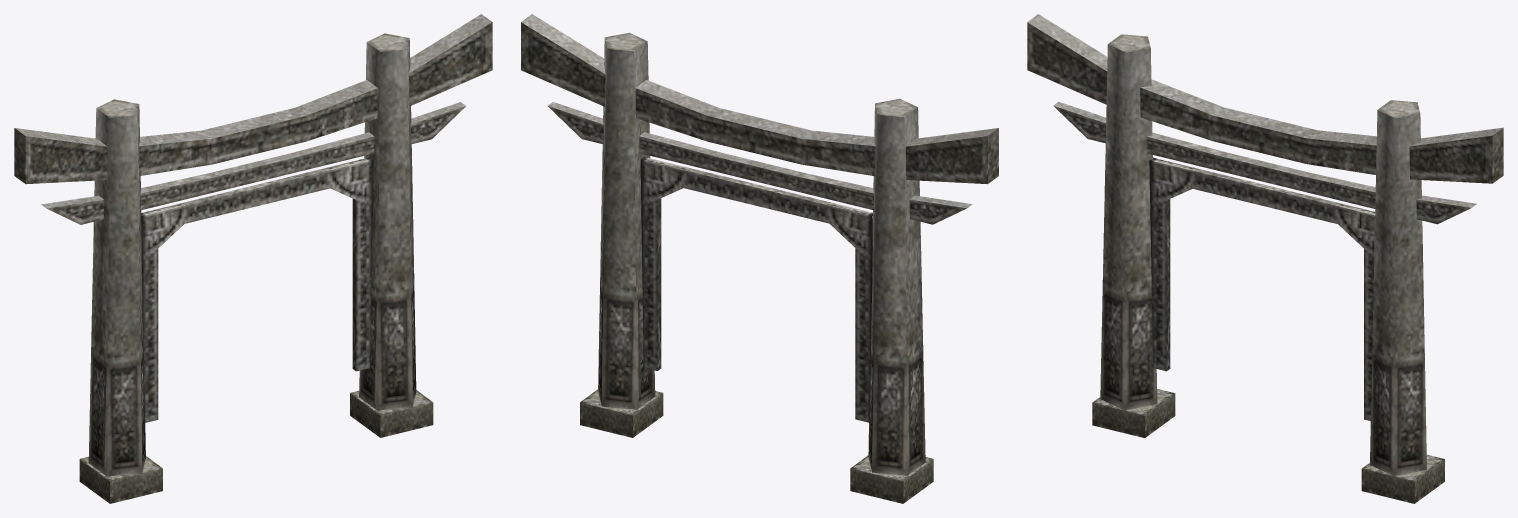
The model's file is warpgate03.glb.
3 renders of one model, left to right at view 1: azimuth 30°, elevation 25°; view 2: azimuth 150°, elevation 25°; view 3: azimuth 330°, elevation 25°, orthographic.
Visible parts, largest first — view 1: gate03; view 2: gate03; view 3: gate03.
Part boxes in pixels (x1,y1,x2,y2): gate03: [14, 14, 492, 503]; gate03: [521, 14, 998, 503]; gate03: [1027, 14, 1503, 503].
Size of the model in its own units: 9.4 by 7.29 by 1.07.
Materials: 1 (1 with a texture image).
